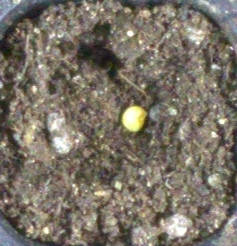pepper seed: (47, 39, 196, 173)
